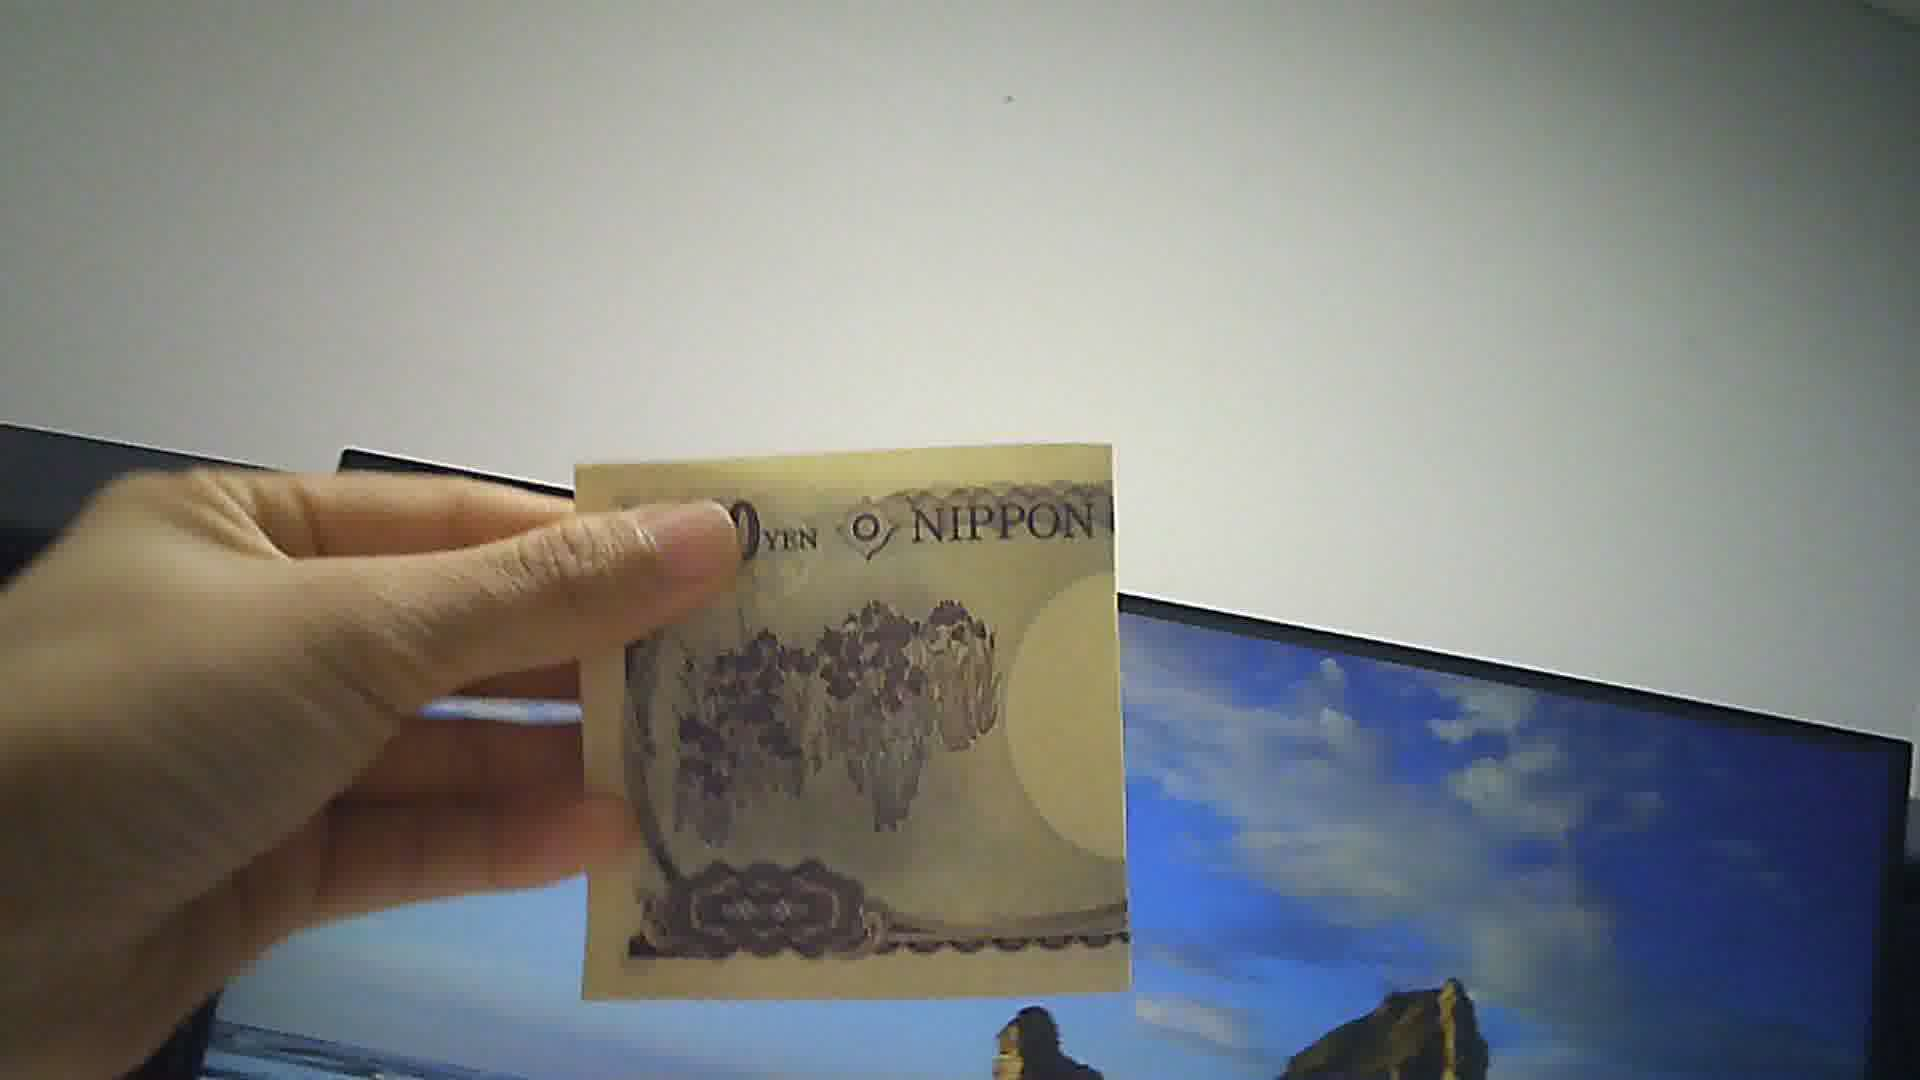5,000 Yen: (558, 431, 1159, 1014)
